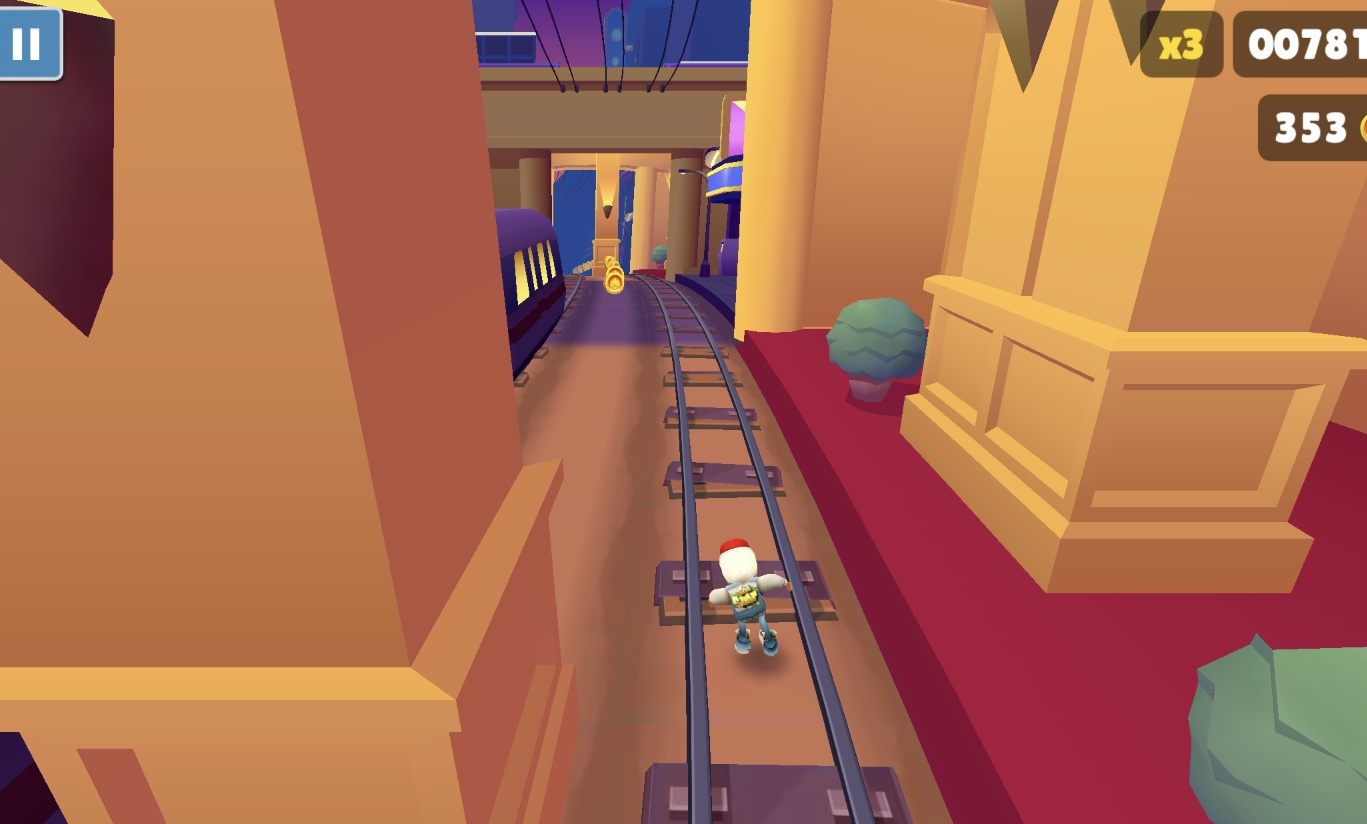pillar: (0, 0, 563, 824), (593, 150, 626, 279)
train: (491, 209, 566, 375)
